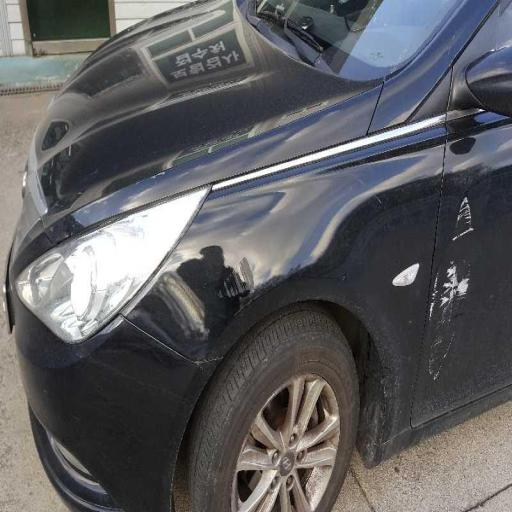scratch: (117, 242, 236, 381), (196, 214, 296, 340), (424, 193, 470, 415)
